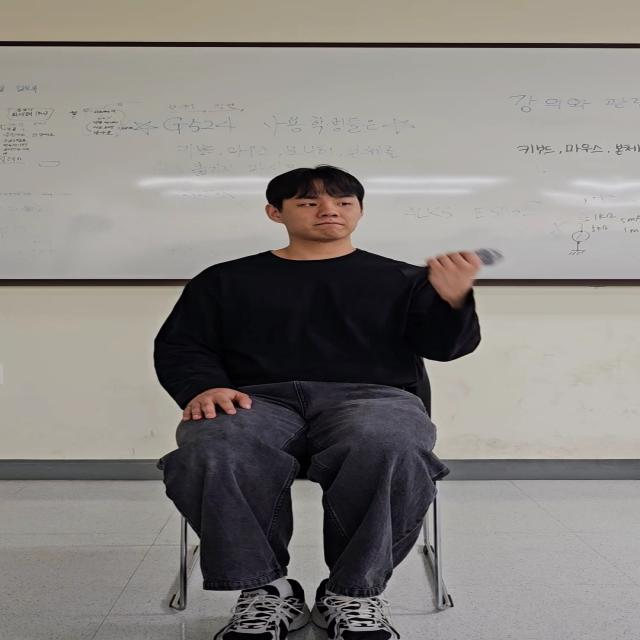curl: (393, 242, 508, 377)
